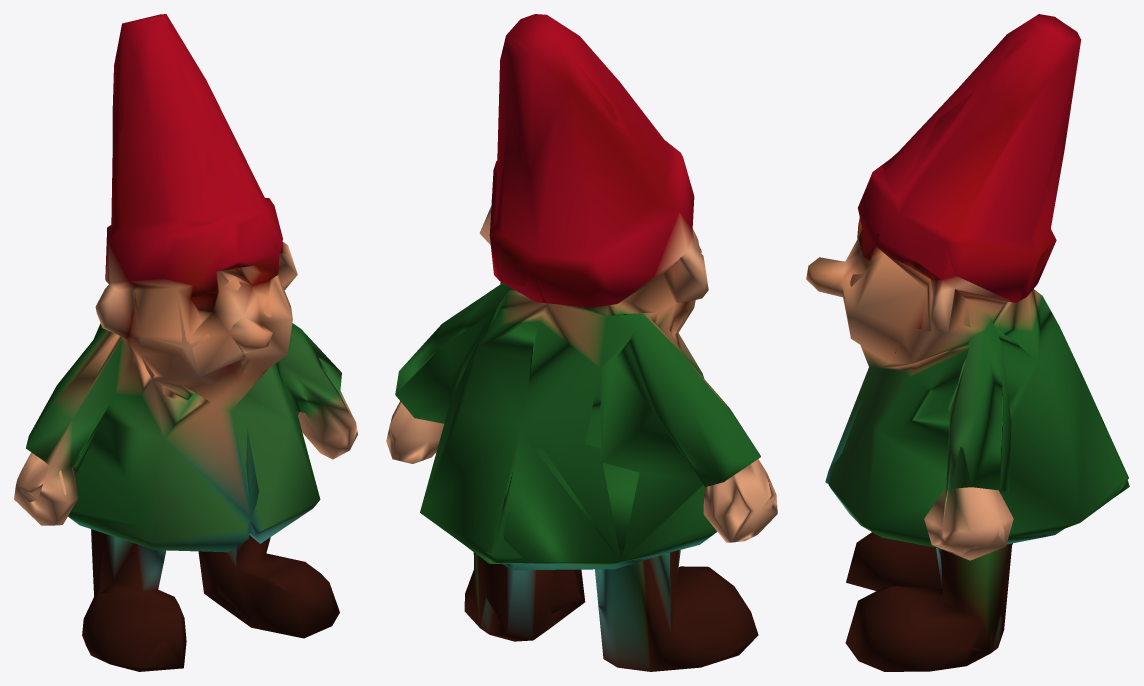
Rendered from gen3d-garden-gnome-lod1.glb.
3 views of the same model, side by side, from view 1: azimuth 30°, elevation 25°; view 2: azimuth 150°, elevation 25°; view 3: azimuth 270°, elevation 25° (orthographic). The views are drawn at different scales.
Visible parts, largest first — view 1: part_0; view 2: part_0; view 3: part_0.
Part boxes in pixels (x1,y1,x2,y2): part_0: (14,14,357,671); part_0: (386,14,777,671); part_0: (806,14,1129,671).
Bounding box in the file's own units: 0.5986 × 0.9999 × 0.4923.
